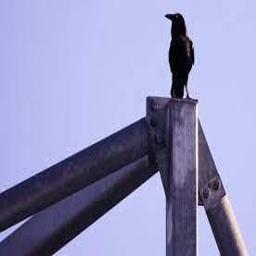Crow: (164, 13, 195, 100)
